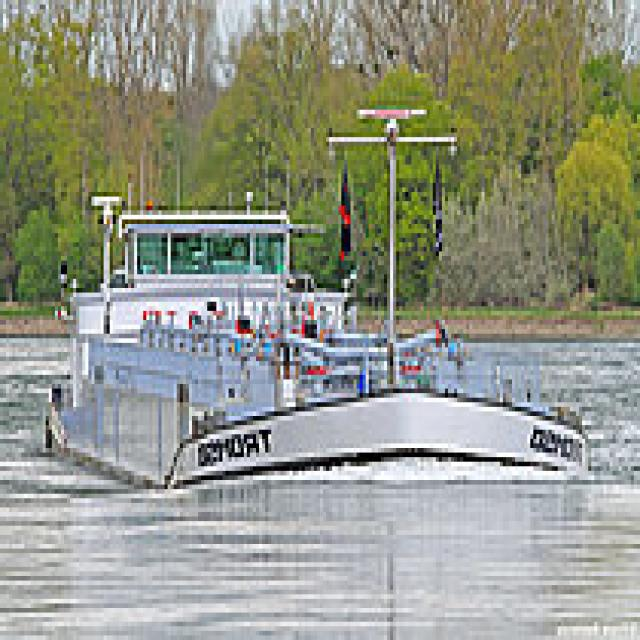Tanker: (40, 96, 591, 503)
